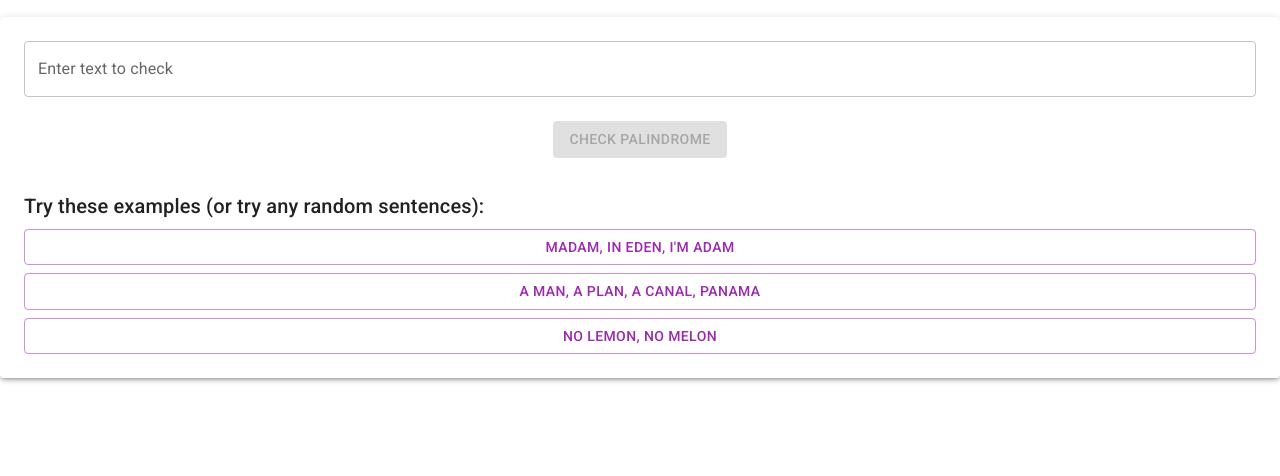
Scenario: PalindromeChecker component › shows the correct result when checking a palindrome
Test with a palindrome
Type "racecar" into the field labelled "Enter text to check" at (640, 69), box [24,41,1256,97]
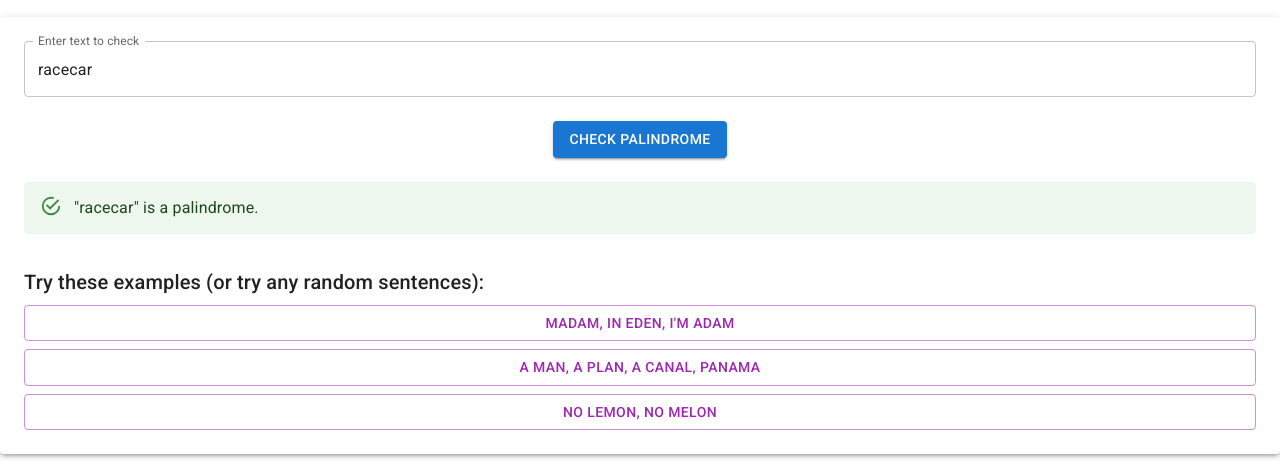
Check: the text "\"racecar\" is a palindrome." is shown, box [74,196,259,220]
Test with a non-palindrome
Replace the text in the field labelled "Enter text to check" with "hello" at (640, 69), box [24,41,1256,97]
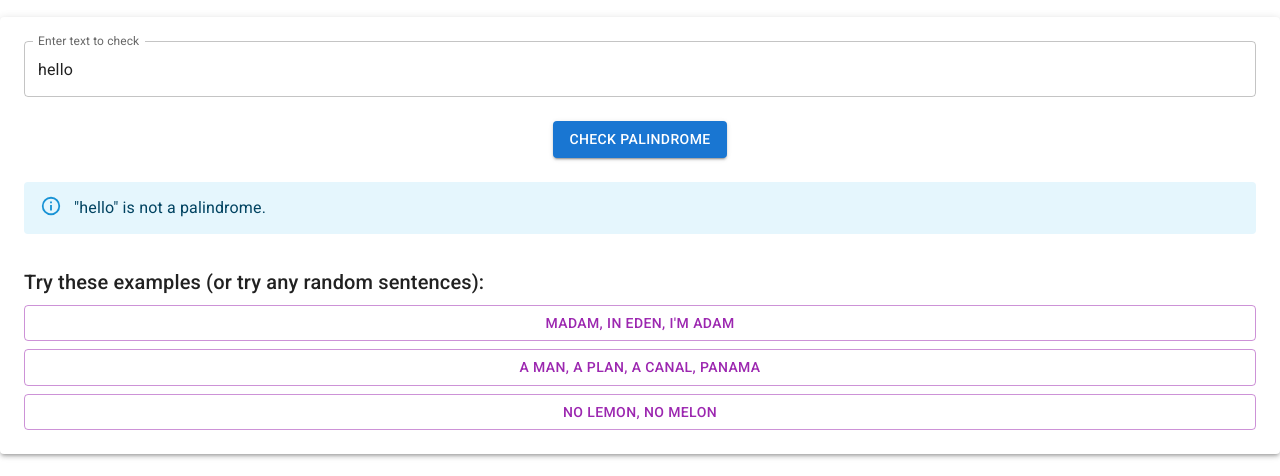
Check: the text "\"hello\" is not a palindrome." is shown, box [74,196,266,220]
